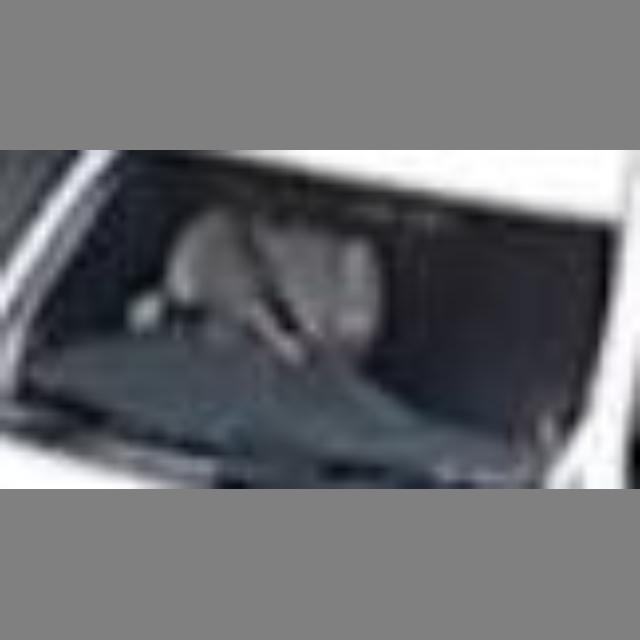pakai: (158, 197, 379, 419)
